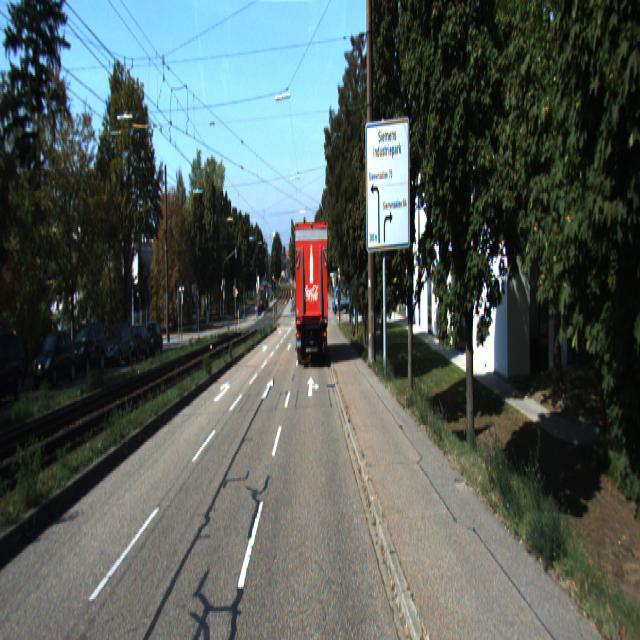Car: (292, 218, 329, 368), (33, 330, 80, 389), (67, 320, 106, 373), (0, 328, 27, 402), (104, 319, 134, 369), (124, 323, 151, 360)
